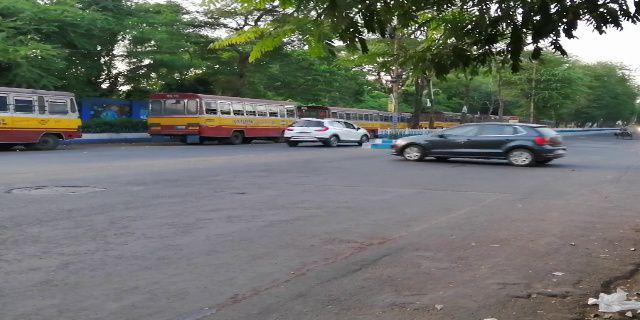Bus: (145, 93, 296, 149), (1, 86, 86, 152)
Car: (394, 116, 570, 174), (281, 114, 370, 151)
